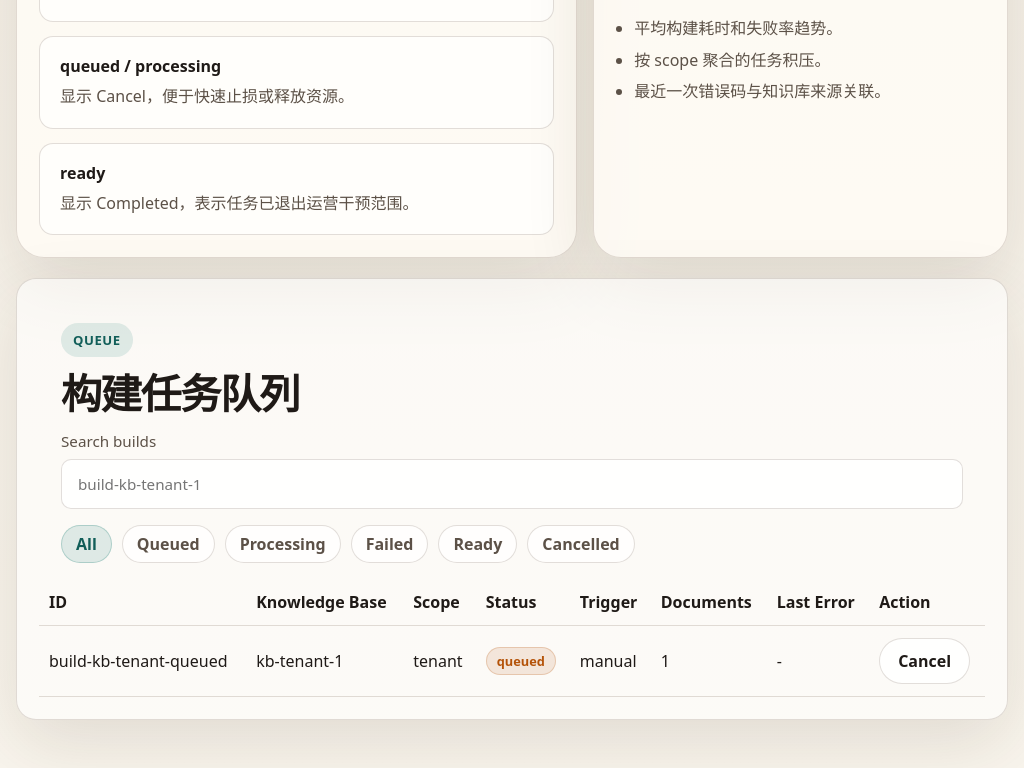
Scenario: cancels a queued build and updates its row
The width and height of the screenshot is (1024, 768).
(page scrolled)
Click the button "Cancel" at (925, 661), box x1=879 y1=638 x2=970 y2=684
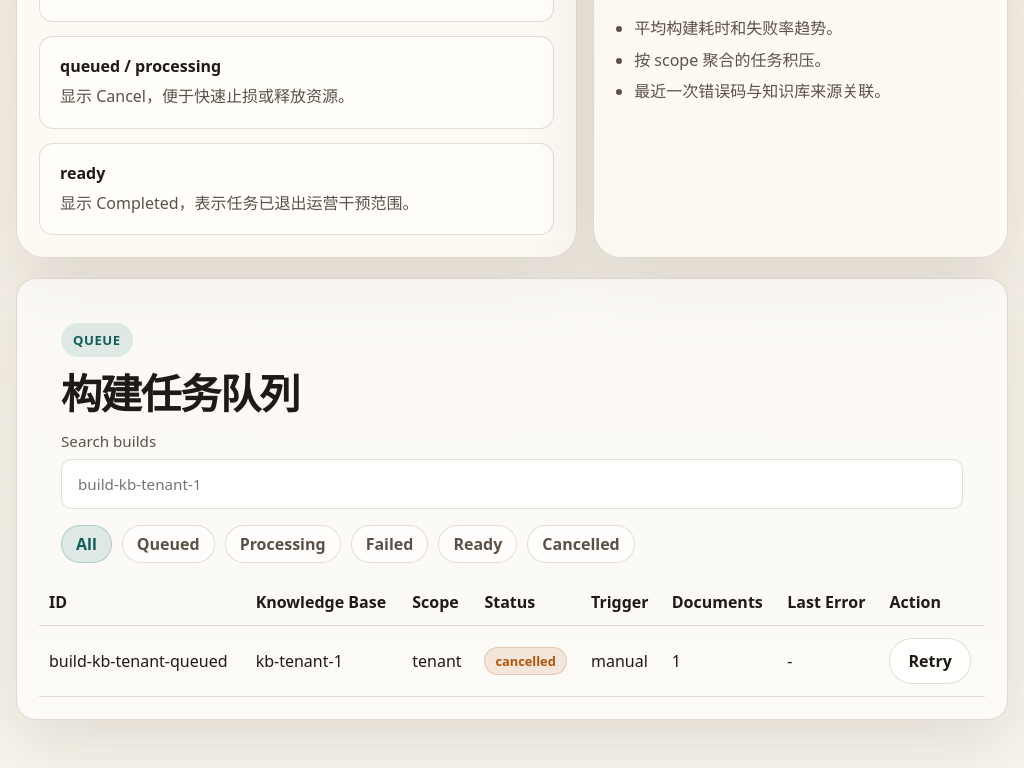
Check: the text "cancelled" is shown, box x1=484 y1=647 x2=567 y2=675
Check: the button "Retry" is shown, box x1=890 y1=638 x2=971 y2=684
